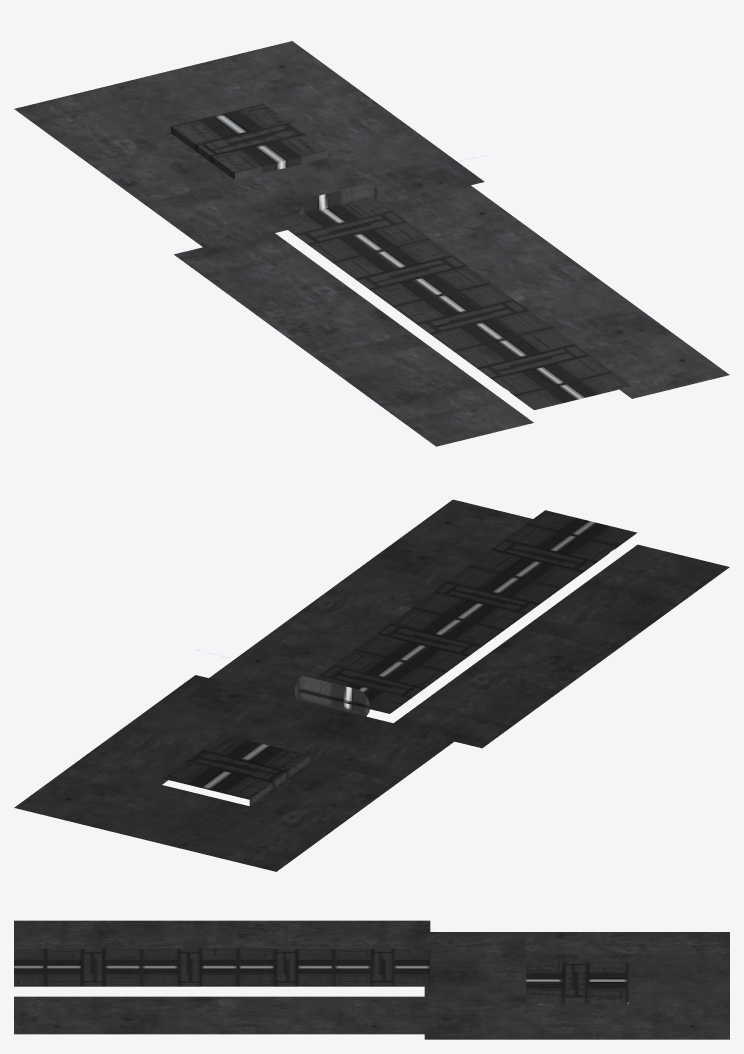
Rendered from window5.obj.
The picture shows the model from 3 angles, top to bottom: view 1: azimuth 30°, elevation 25°; view 2: azimuth 150°, elevation 25°; view 3: azimuth 270°, elevation 25°; orthographic projection. The views are drawn at different scales.
Visible parts, largest first — view 1: window5; view 2: window5; view 3: window5.
Part boxes in pixels (bbox=[...]): window5: bbox=[14, 41, 729, 446]; window5: bbox=[14, 499, 729, 871]; window5: bbox=[14, 920, 729, 1039].
Bounding box in the file's own units: 9.96 × 0.8609 × 25.32.
